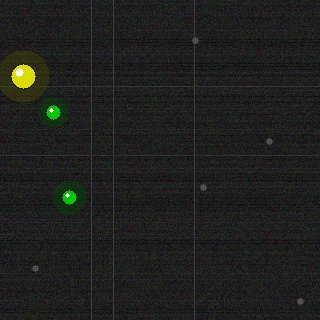green_normal: (44, 103, 62, 121), (60, 188, 78, 206)
yellow_warning: (9, 62, 37, 90)
